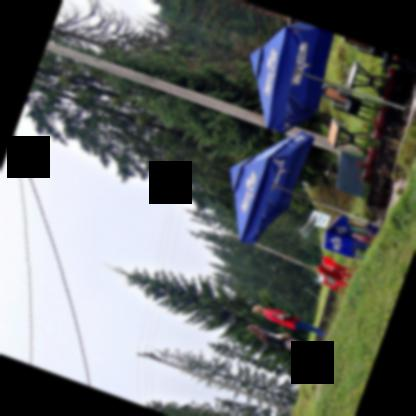handbag: (264, 309, 296, 320), (260, 328, 290, 338)
